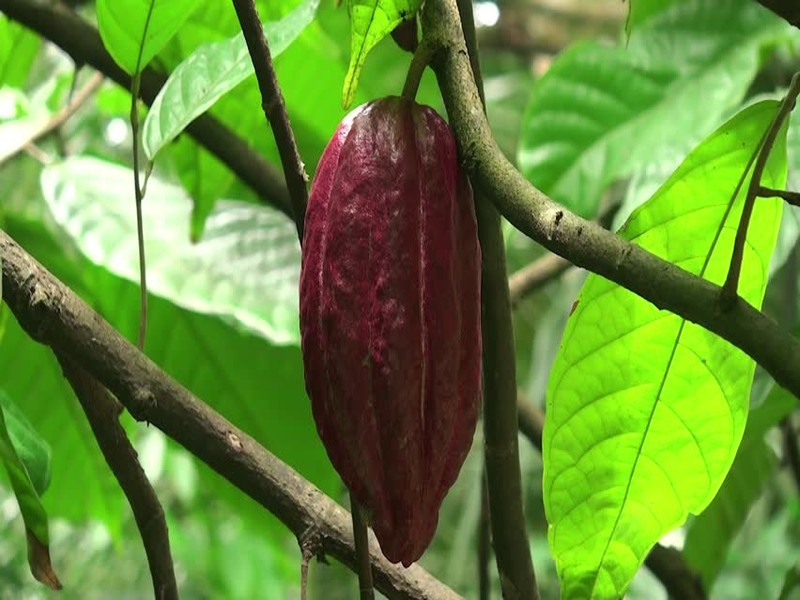Cacaopod: (298, 95, 489, 570)
